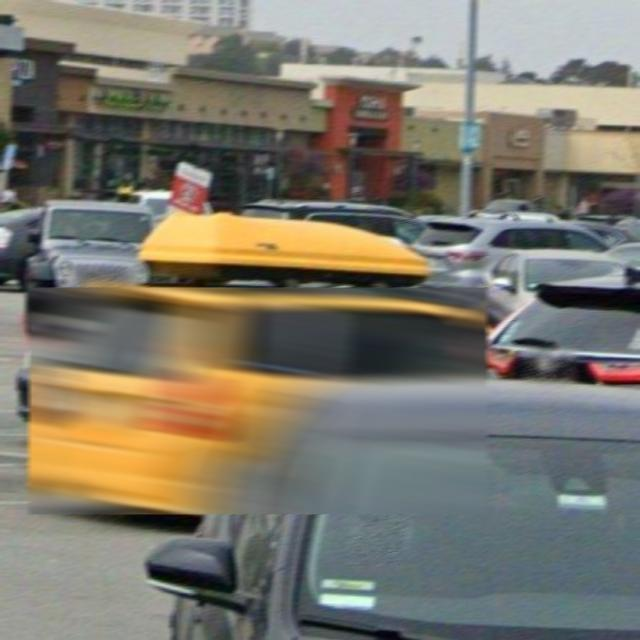Taxi: (28, 287, 488, 514)
